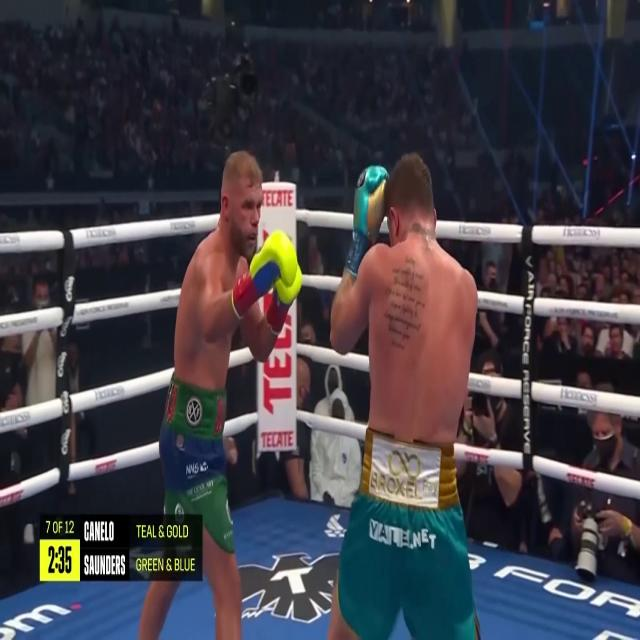boxer_1: (174, 152, 263, 389)
boxer_2: (369, 154, 477, 445)
gloves_1: (232, 230, 302, 334)
gloves_2: (346, 165, 390, 279)
